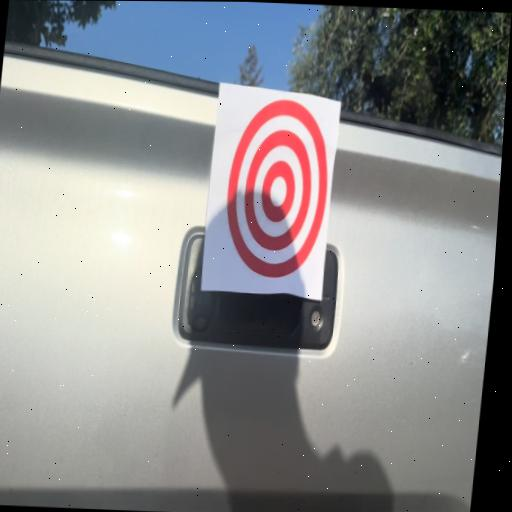bullseye: (216, 86, 340, 297)
